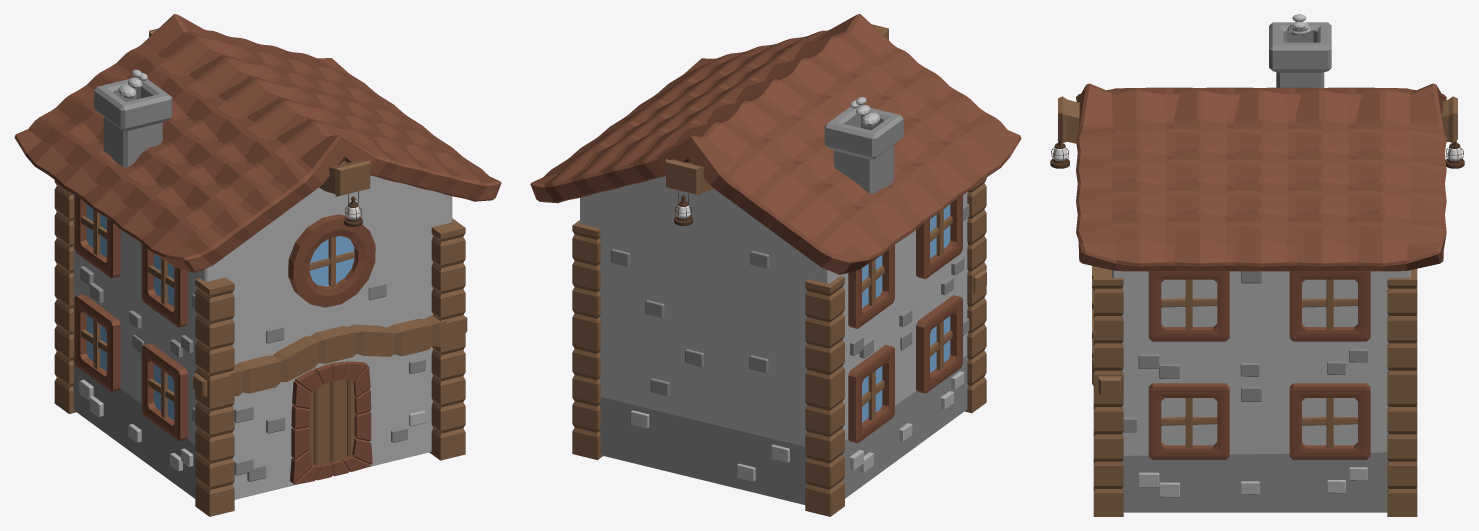
The model's file is house-4.fbx.
3 renders of one model, left to right at view 1: azimuth 30°, elevation 25°; view 2: azimuth 150°, elevation 25°; view 3: azimuth 270°, elevation 25°, orthographic. The views are drawn at different scales.
Parts seen in each view (by area): view 1: Cube.206; view 2: Cube.206; view 3: Cube.206.
Boxes of the visible parts, left/top/right/bottom form: Cube.206: left=14, top=14, right=501, bottom=516; Cube.206: left=530, top=14, right=1021, bottom=516; Cube.206: left=1050, top=14, right=1464, bottom=516.
Bounding box in the file's own units: 855 × 913 × 891.
